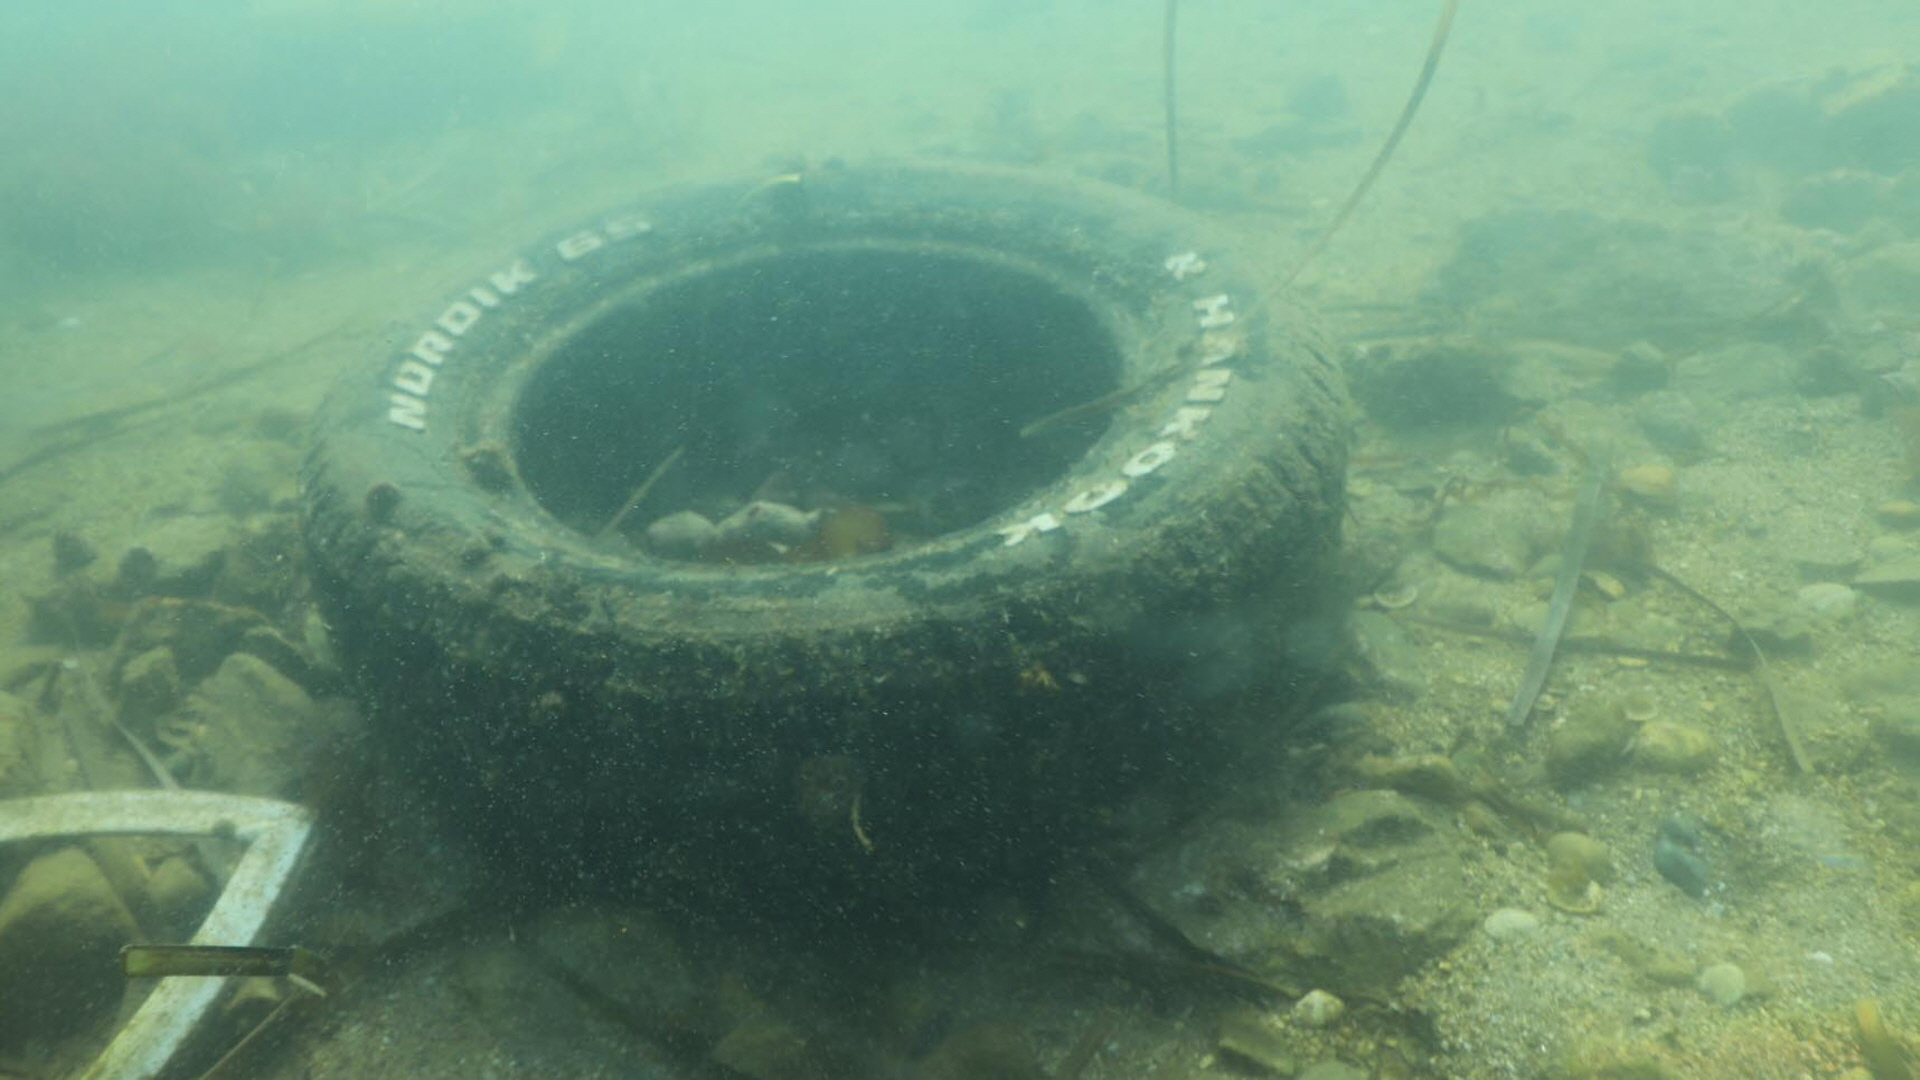tire: (301, 161, 1354, 872)
